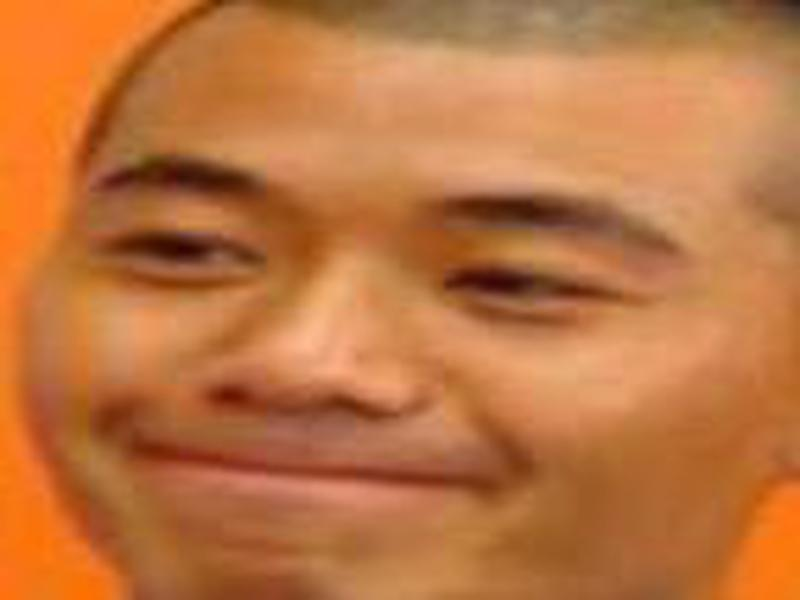without_mask: (14, 19, 797, 600)
